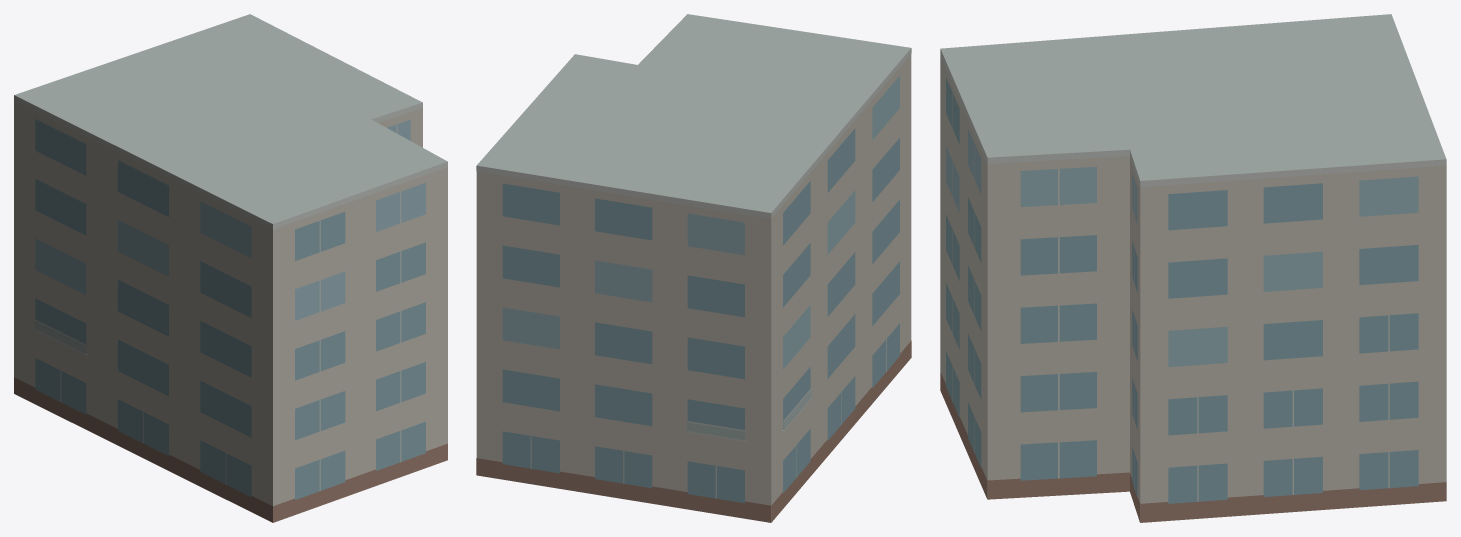
The model's file is residential-133fb692-3a9b-4d57-955a-1e49a5678104.glb.
3 views of the same model, side by side, from view 1: azimuth 30°, elevation 25°; view 2: azimuth 150°, elevation 25°; view 3: azimuth 270°, elevation 25° (orthographic). The views are drawn at different scales.
Visible parts, largest first — view 1: residential-133fb692-3a9b-4d57-955a-1e49a5678104.tmp; view 2: residential-133fb692-3a9b-4d57-955a-1e49a5678104.tmp; view 3: residential-133fb692-3a9b-4d57-955a-1e49a5678104.tmp.
Boxes of the visible parts, box(x1,y1,x2,y2) form: residential-133fb692-3a9b-4d57-955a-1e49a5678104.tmp: box(14, 14, 447, 522); residential-133fb692-3a9b-4d57-955a-1e49a5678104.tmp: box(476, 14, 911, 522); residential-133fb692-3a9b-4d57-955a-1e49a5678104.tmp: box(940, 14, 1446, 522).
Bounding box in the file's own units: 13.84 × 13.2 × 17.72.
